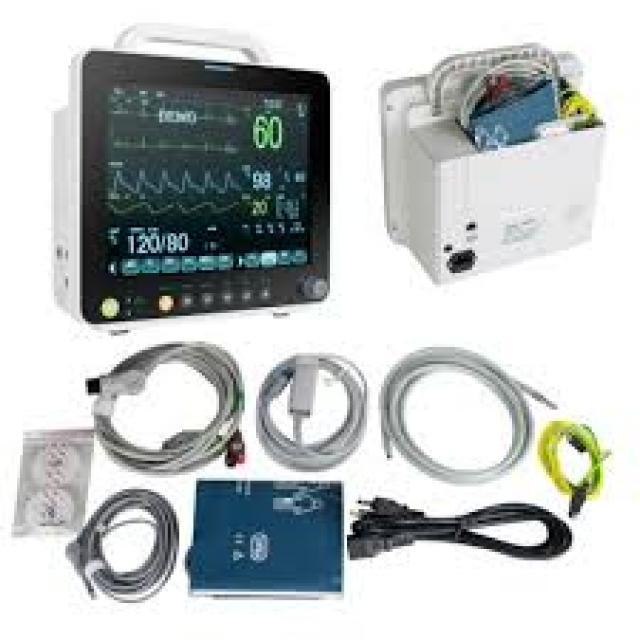cardiac_monitor: (59, 41, 345, 329)
